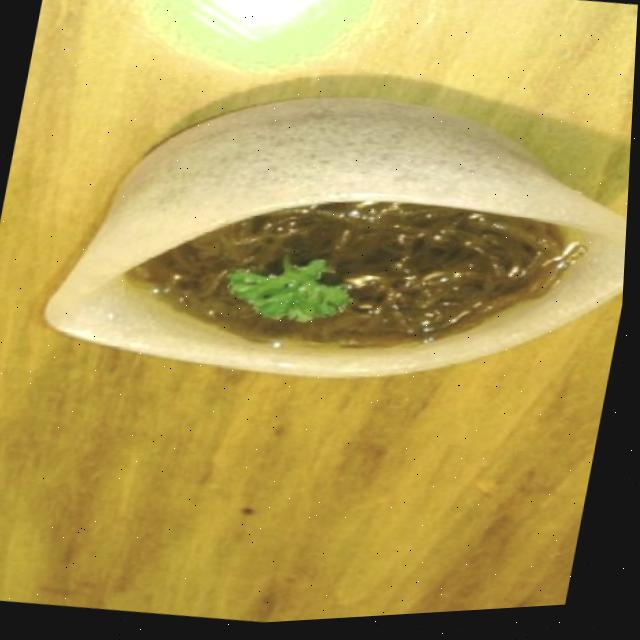蔬菜料理: (6, 0, 640, 504)
